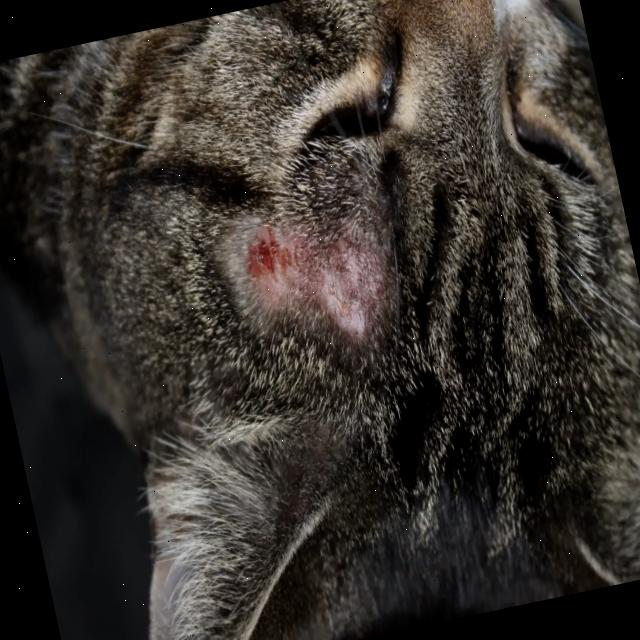cat-ringworm: (209, 200, 418, 362)
